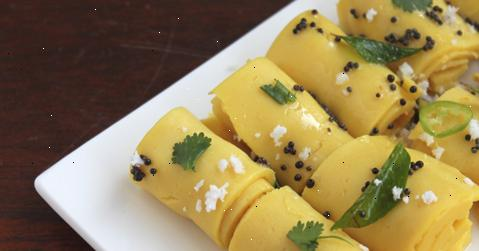khandvi: (151, 3, 479, 251)
